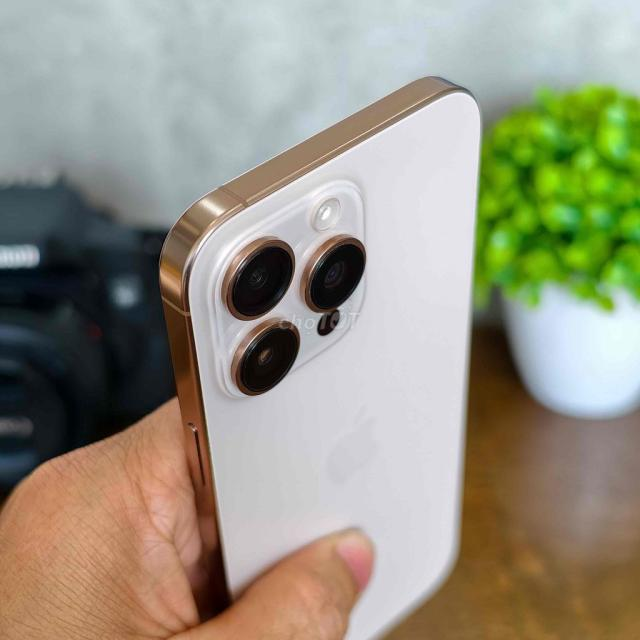gen_16: (151, 75, 486, 640)
